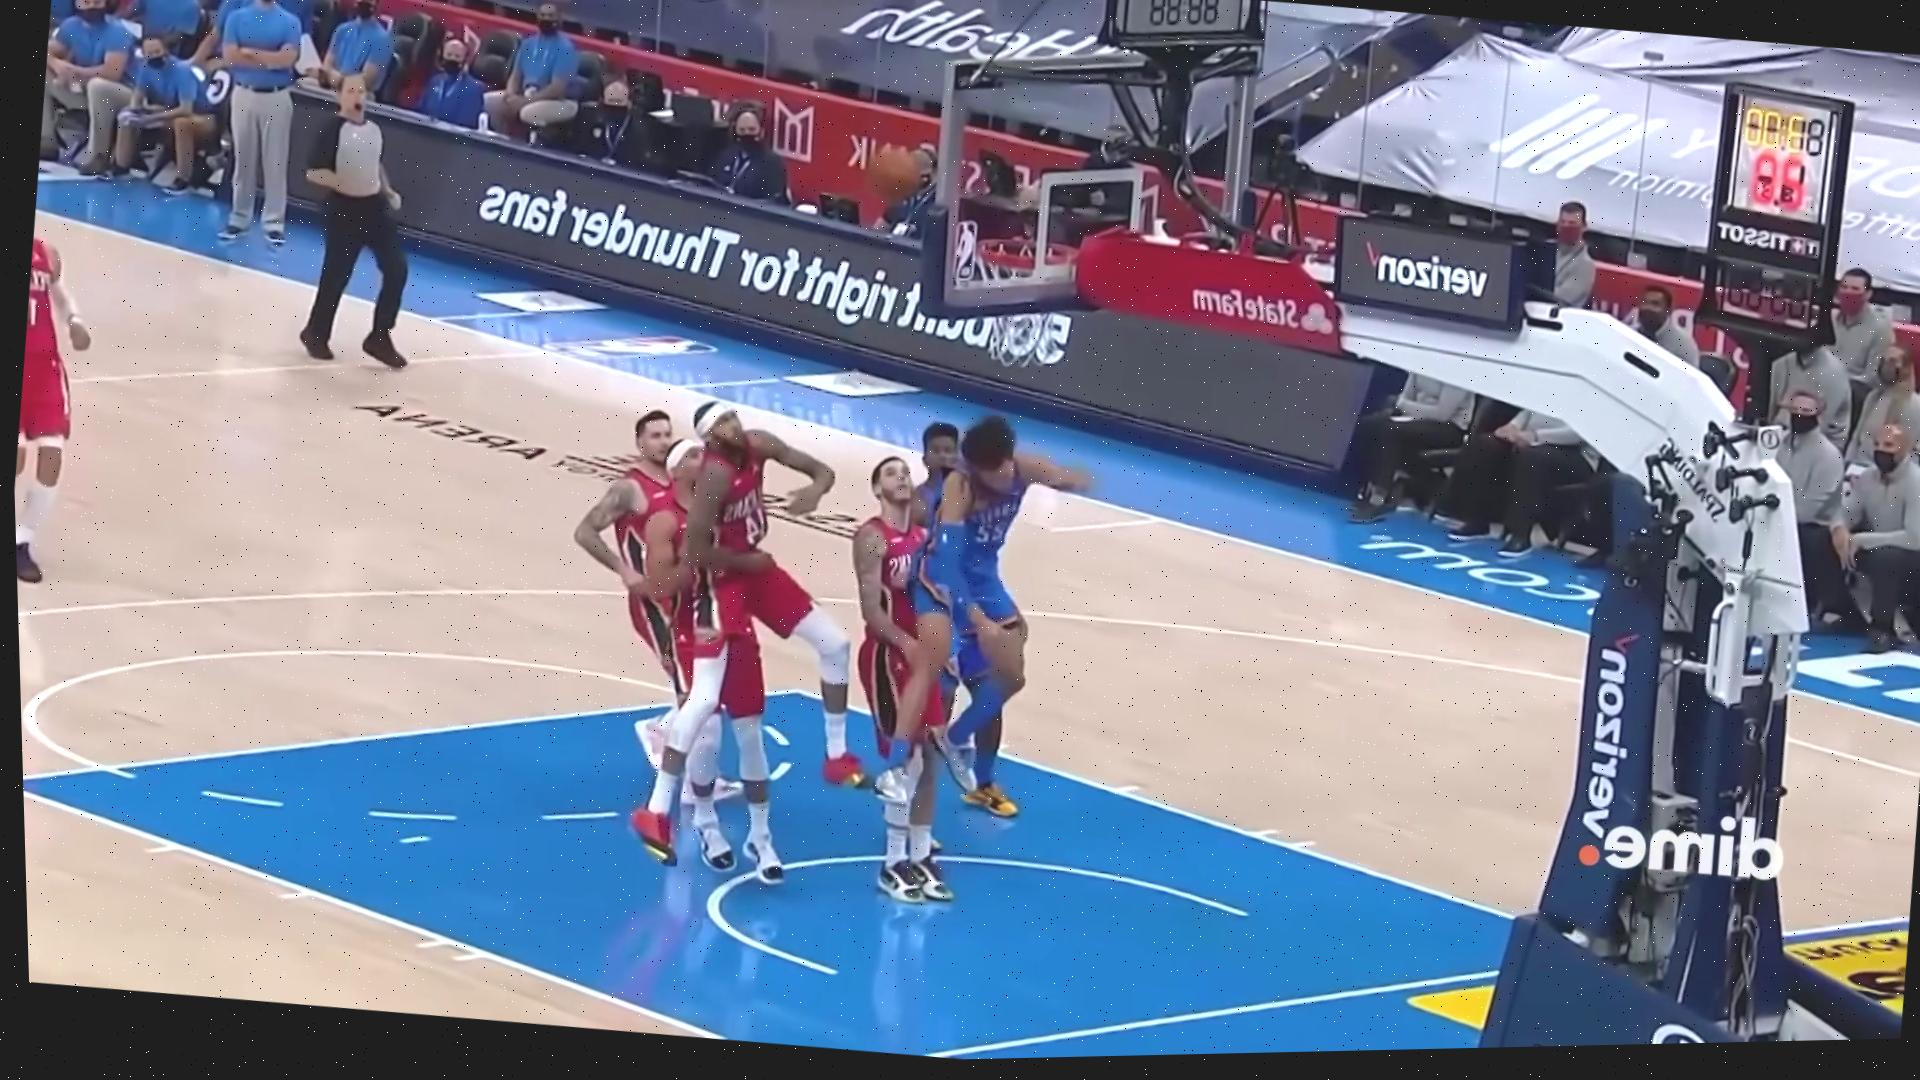no_foul: (822, 384, 1127, 897)
